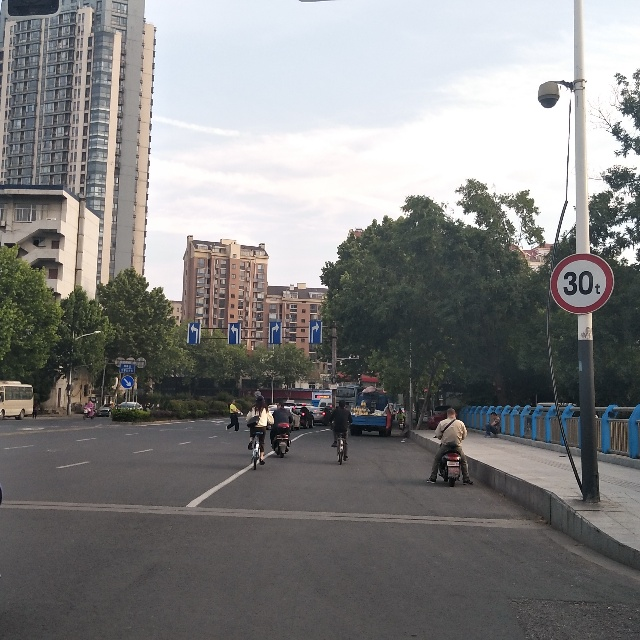left: (187, 323, 200, 345), (228, 323, 240, 344)
right: (268, 322, 282, 344), (308, 321, 322, 343)
